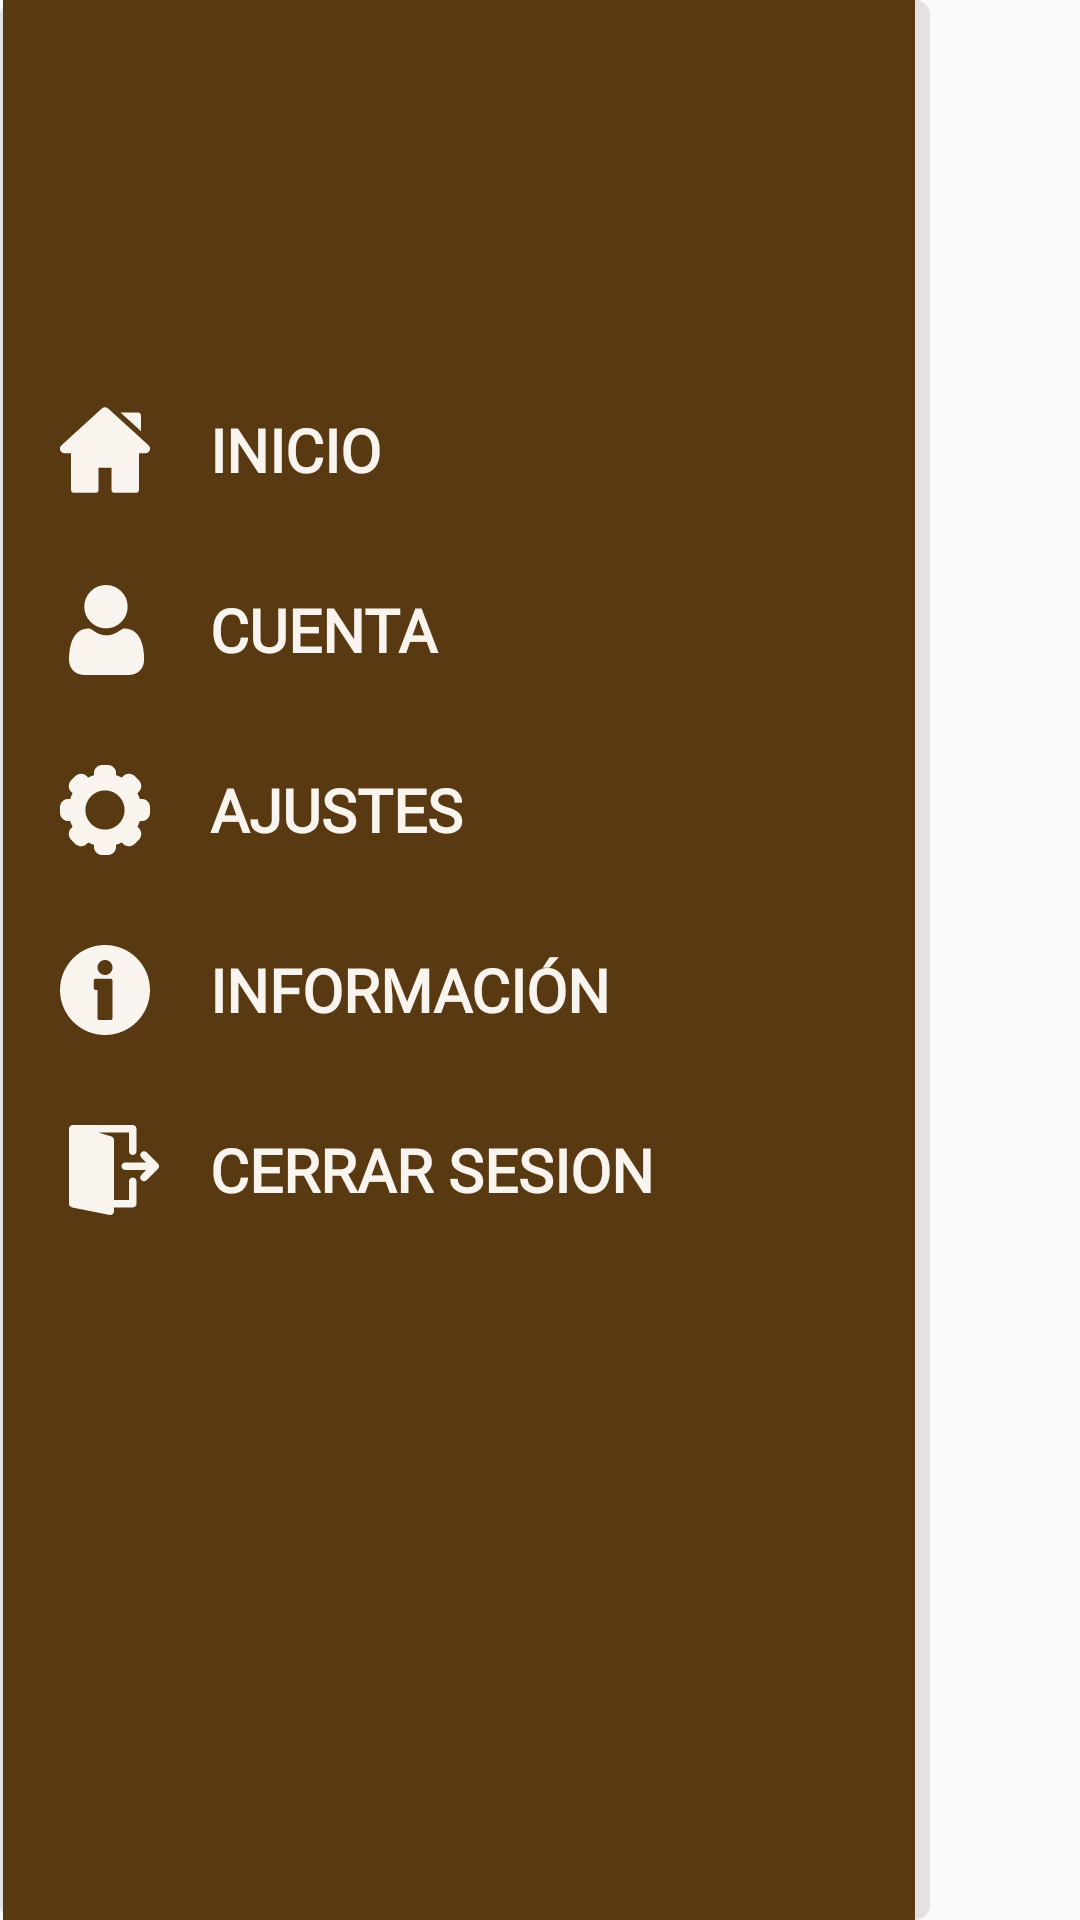

Icon bounding boxes for this 1080 × 1920 phone screenshot, format (x1, y1, x2, y2):
home: (60, 407, 150, 493)
log out: (69, 1125, 159, 1215)
settings: (60, 765, 150, 855)
user: (69, 585, 144, 675)
